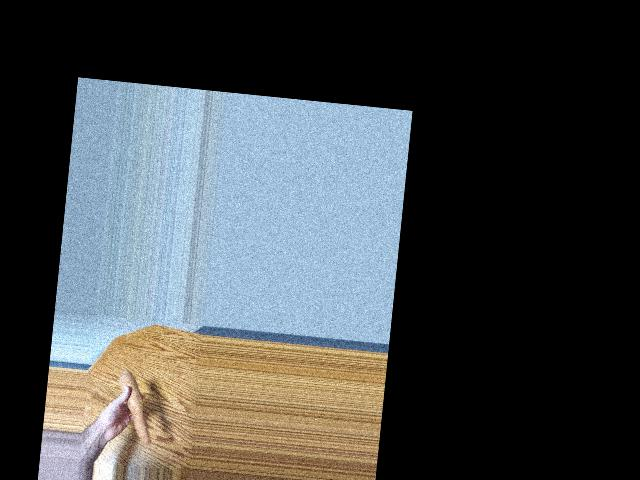sweet_potato: (121, 367, 152, 446)
